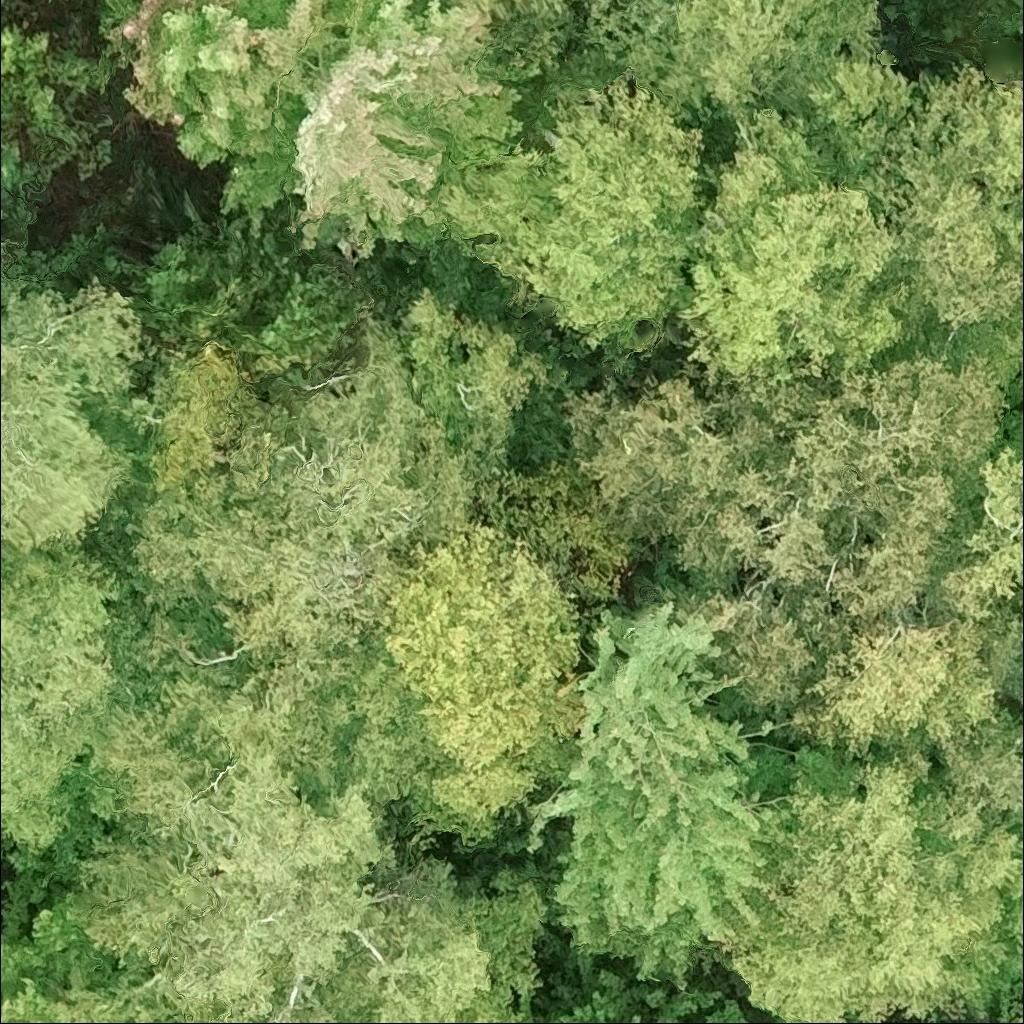crown: (549, 339, 1023, 765), (105, 310, 476, 709), (676, 34, 1023, 393), (95, 0, 544, 265), (63, 670, 397, 1023), (524, 591, 798, 990), (719, 712, 1023, 1023), (432, 67, 713, 353), (382, 513, 585, 843), (0, 538, 152, 849), (556, 0, 887, 128), (0, 273, 154, 548), (320, 856, 548, 1023), (389, 282, 551, 468), (470, 454, 636, 624), (317, 630, 453, 810), (129, 337, 266, 490), (935, 440, 1023, 620), (529, 965, 724, 1023), (0, 24, 96, 138), (495, 0, 575, 97), (0, 928, 61, 1023), (210, 987, 355, 1023), (704, 997, 753, 1023), (1003, 997, 1023, 1023), (413, 0, 429, 11), (440, 0, 458, 6), (771, 1020, 783, 1023), (0, 271, 4, 279)
